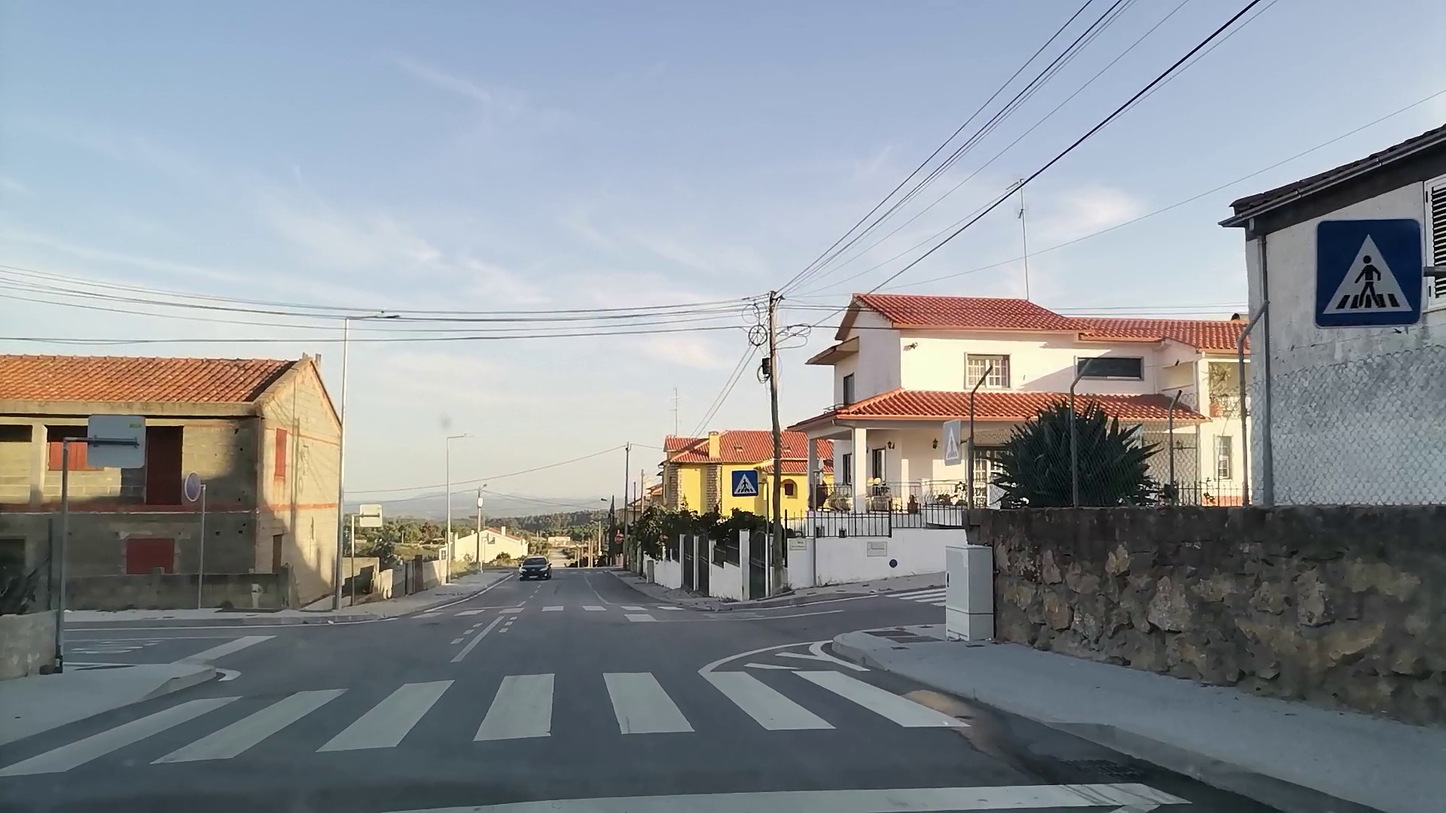Stairs: (124, 665, 987, 764)
